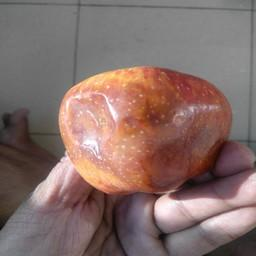Bad_apple: (56, 65, 231, 194)
